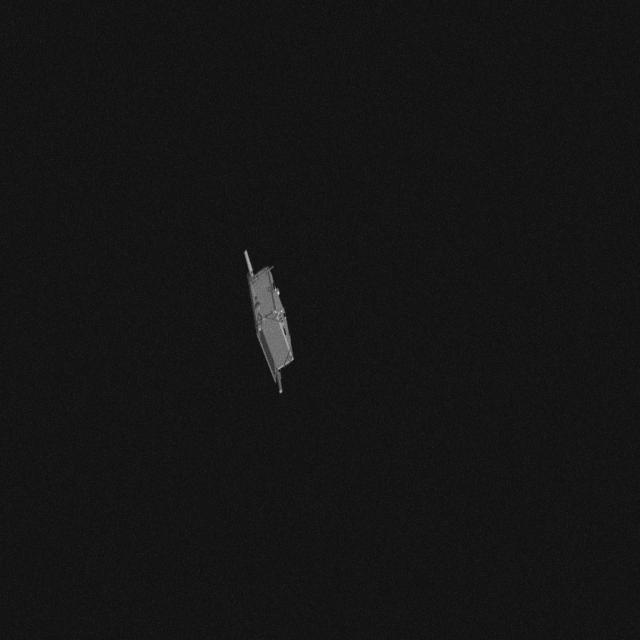satellite: (232, 242, 306, 398)
